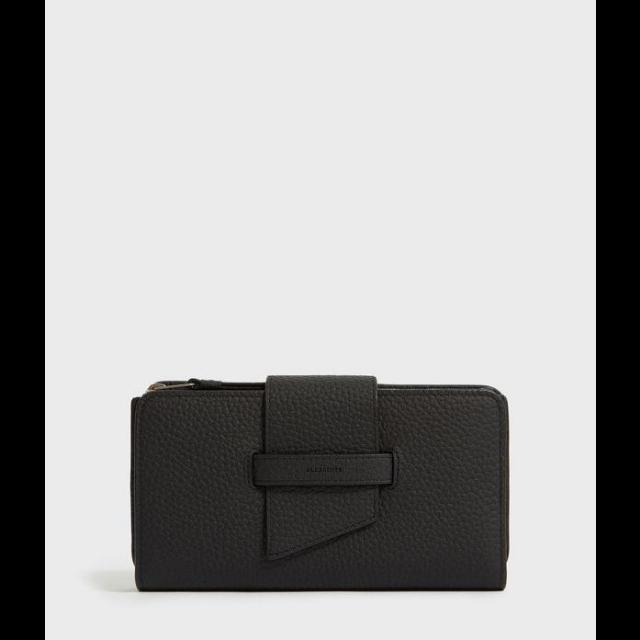Wallet: (123, 373, 510, 595)
